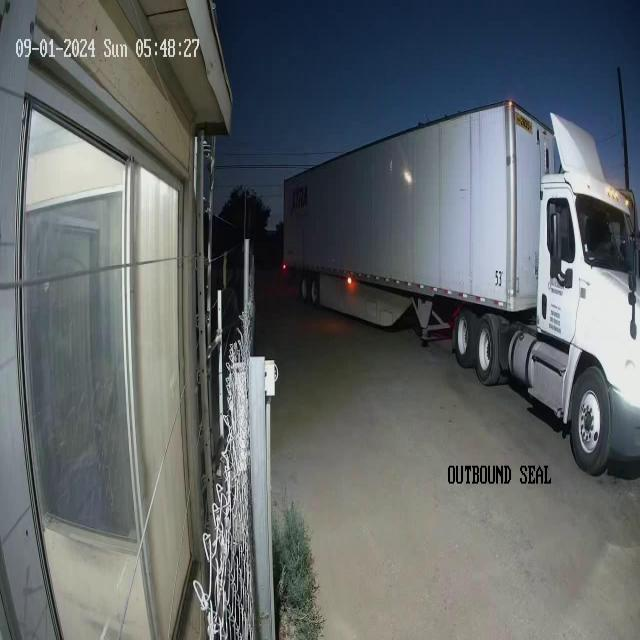CONTAINER: (281, 103, 539, 310)
